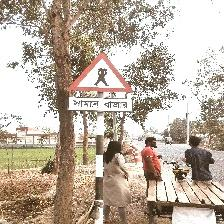Market-in-front: (66, 52, 134, 114)
